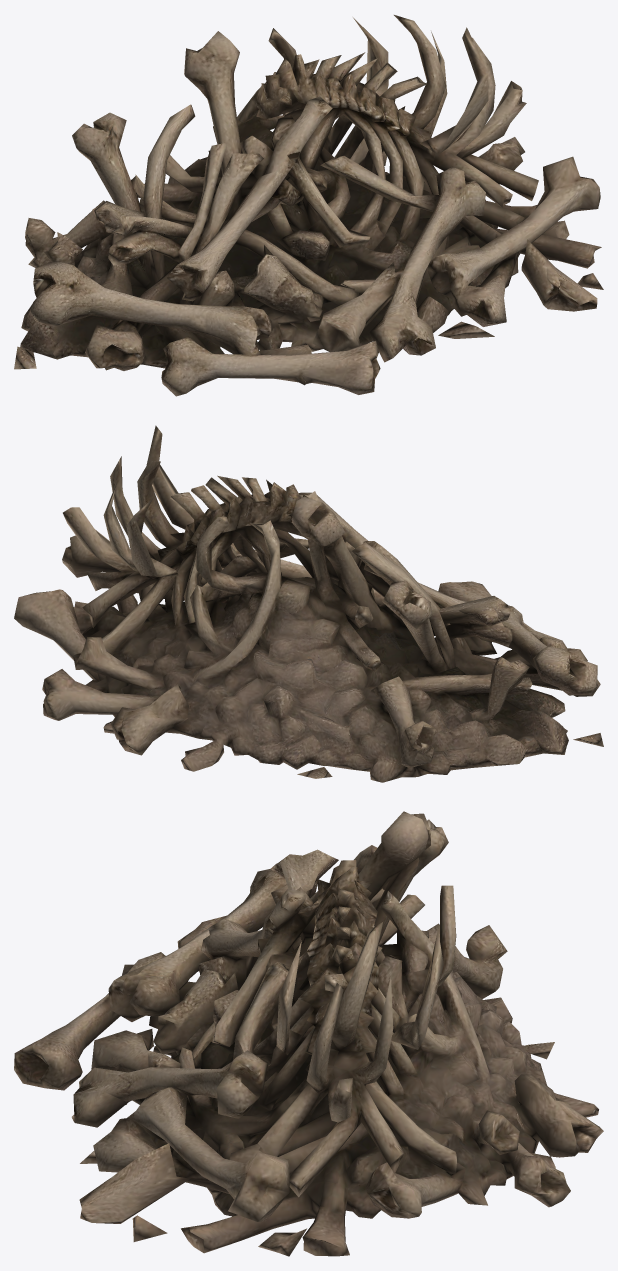
Rendered from bone_heap.glb.
The picture shows the model from 3 angles, top to bottom: view 1: azimuth 30°, elevation 25°; view 2: azimuth 150°, elevation 25°; view 3: azimuth 270°, elevation 25°; orthographic projection. The views are drawn at different scales.
Parts seen in each view (by area): view 1: tripo_node_5e7d8c78-bd77-44f6-8fc6-34069788a621; view 2: tripo_node_5e7d8c78-bd77-44f6-8fc6-34069788a621; view 3: tripo_node_5e7d8c78-bd77-44f6-8fc6-34069788a621.
Part boxes in pixels (x1,y1,x2,y2): tripo_node_5e7d8c78-bd77-44f6-8fc6-34069788a621: (14,15,603,396); tripo_node_5e7d8c78-bd77-44f6-8fc6-34069788a621: (14,425,603,782); tripo_node_5e7d8c78-bd77-44f6-8fc6-34069788a621: (14,811,603,1256).
Size of the model in its own units: 1.28 by 0.5 by 0.9715.
1 material, 1 textured.
